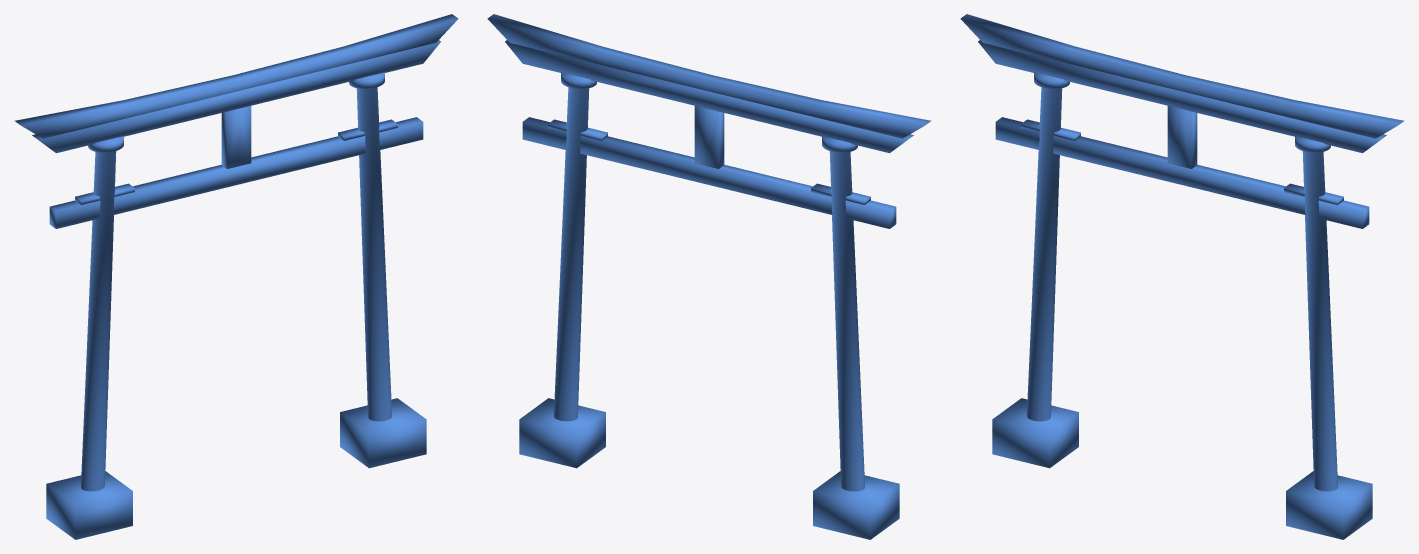
File: Build001.FBX
3 views of the same model, side by side, from view 1: azimuth 30°, elevation 25°; view 2: azimuth 150°, elevation 25°; view 3: azimuth 330°, elevation 25° (orthographic).
Parts seen in each view (by area): view 1: Build001; view 2: Build001; view 3: Build001.
Boxes of the visible parts, x1,y1,x2,y2 form: Build001: [14, 14, 458, 539]; Build001: [487, 14, 931, 539]; Build001: [960, 14, 1404, 539].
Bounding box in the file's own units: 124 × 112 × 14.32.
